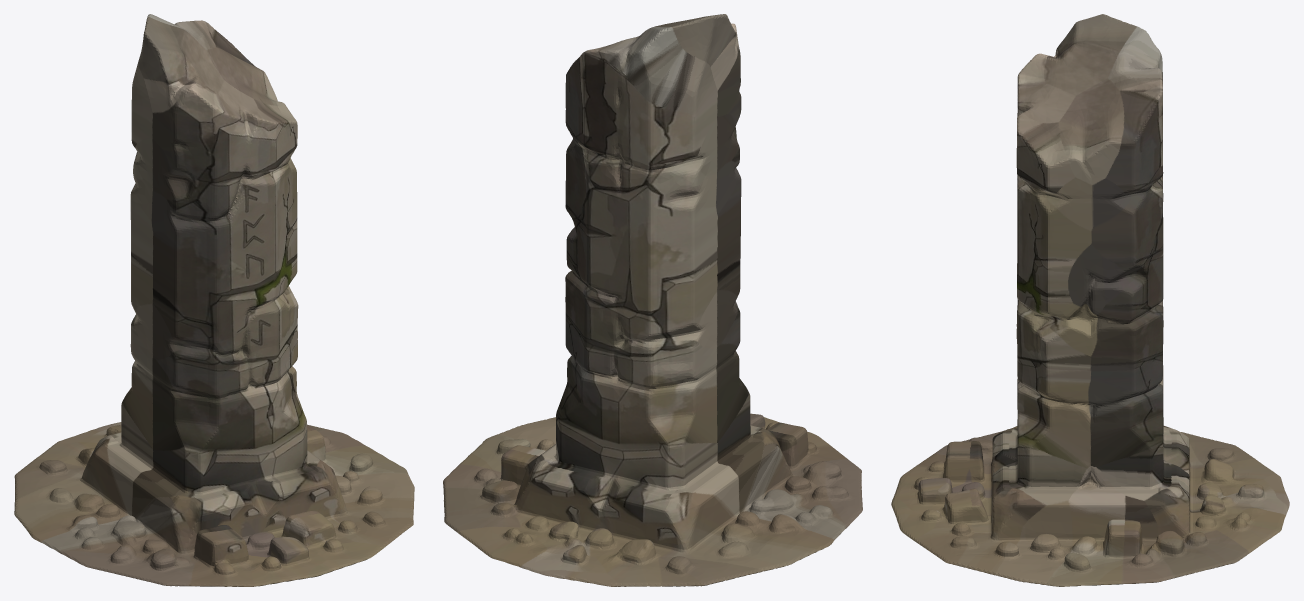
File: pilar.glb
The picture shows the model from 3 angles, left to right: view 1: azimuth 30°, elevation 25°; view 2: azimuth 150°, elevation 25°; view 3: azimuth 270°, elevation 25°; orthographic projection. The views are drawn at different scales.
Visible parts, largest first — view 1: world; view 2: world; view 3: world.
Boxes of the visible parts, left/top/right/bottom form: world: left=14, top=14, right=414, bottom=586; world: left=443, top=14, right=862, bottom=586; world: left=891, top=14, right=1289, bottom=586.
Size of the model in its own units: 1.5 by 1.96 by 1.53.
Materials: 1 (1 with a texture image).
